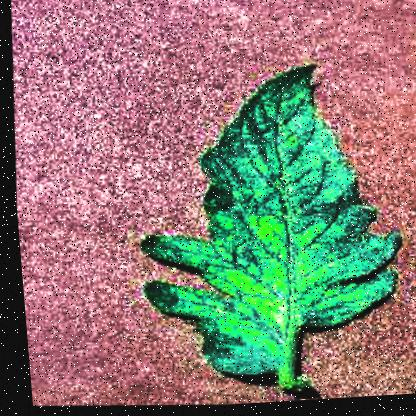Virus: (118, 51, 415, 410)
